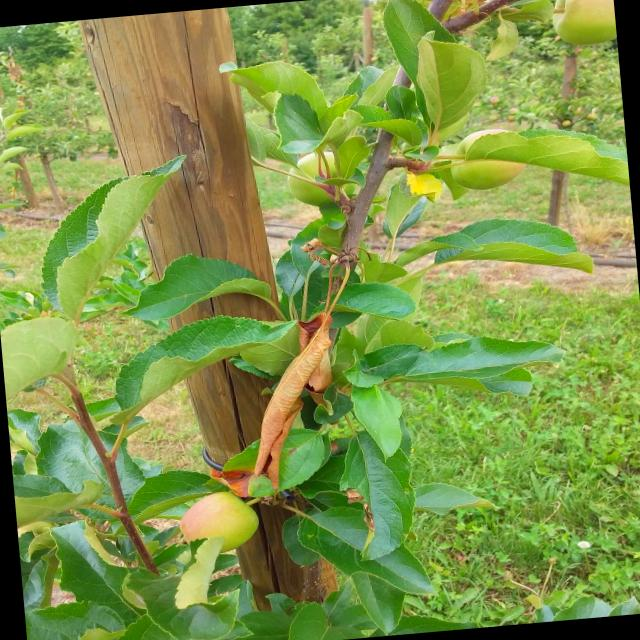-FireBlight-: (248, 261, 338, 486)
